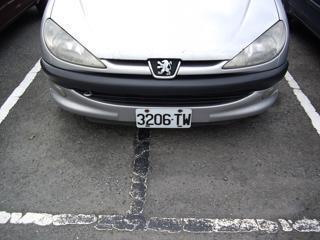plate: (133, 106, 195, 131)
